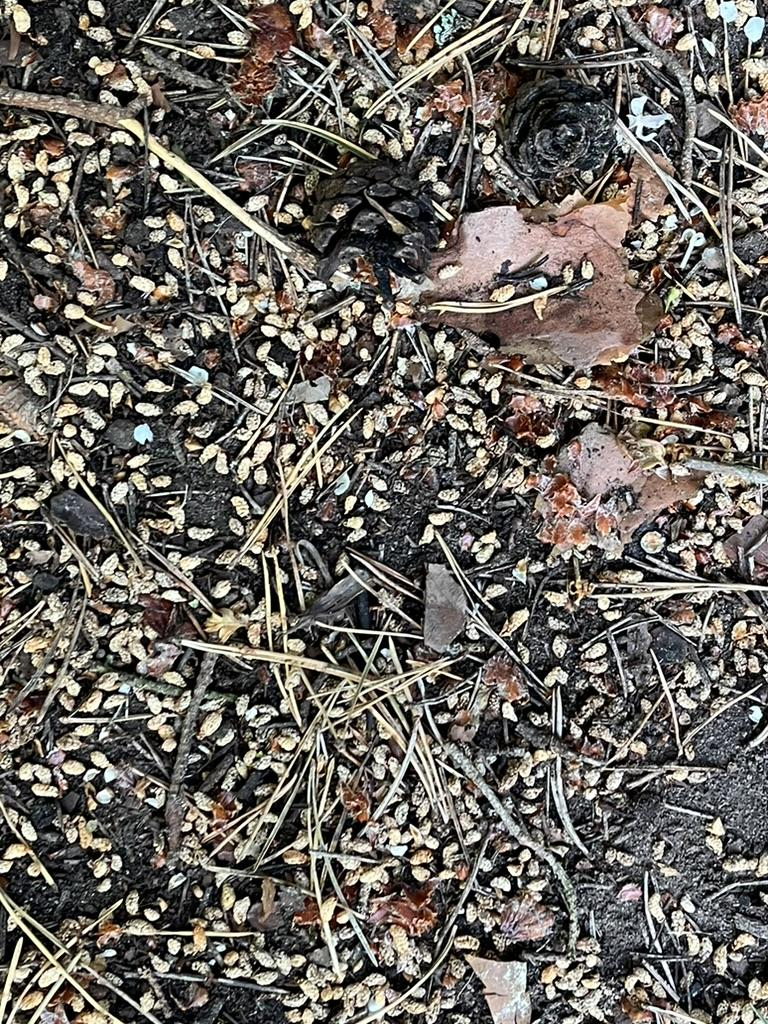pine: (494, 68, 638, 203)
